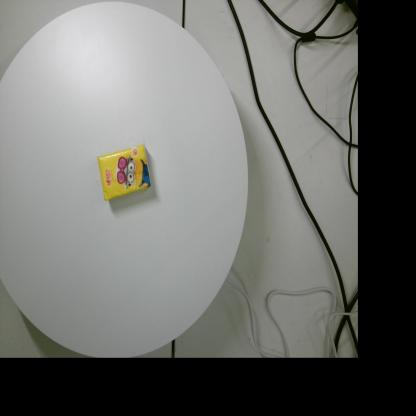Tissue: (96, 144, 152, 201)
